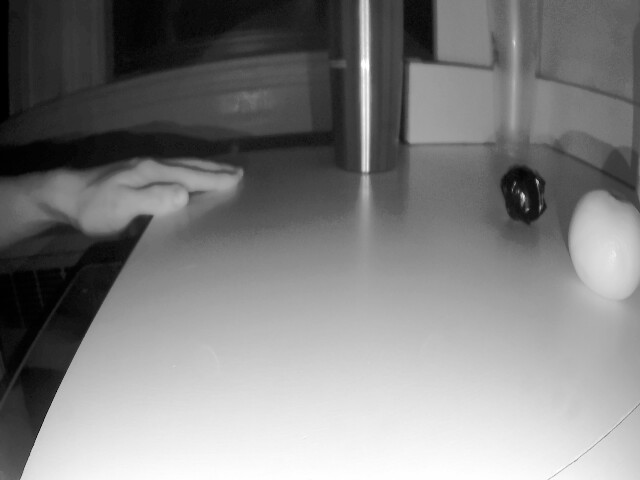silver: (497, 155, 555, 228)
